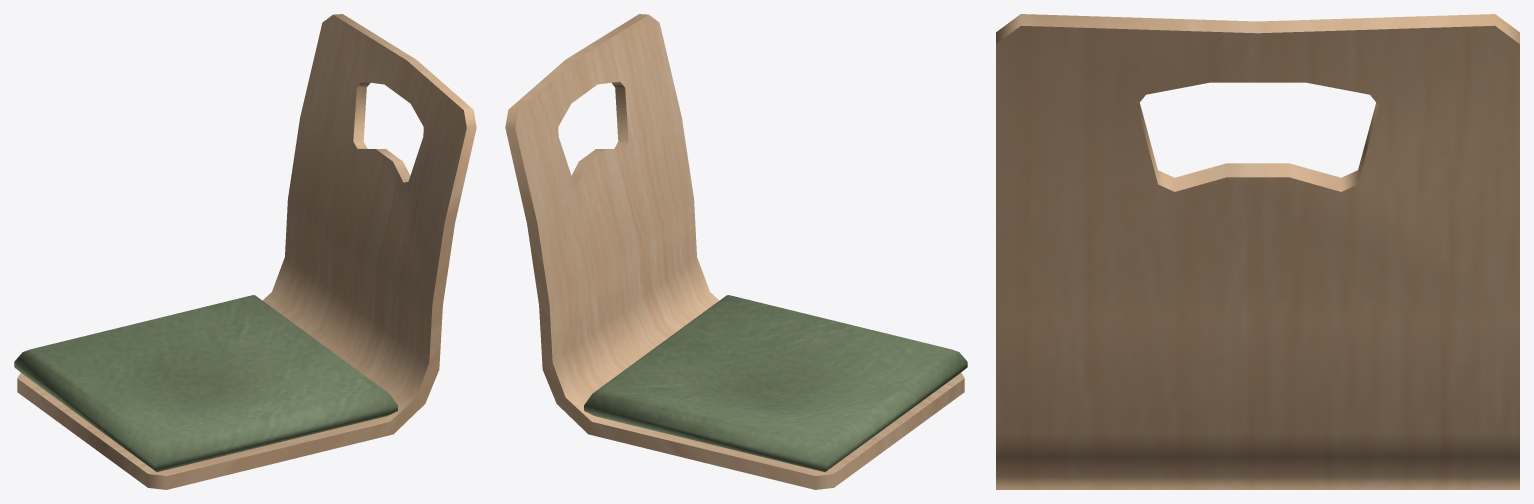
File: zaisu.fbx
3 views of the same model, side by side, from view 1: azimuth 30°, elevation 25°; view 2: azimuth 150°, elevation 25°; view 3: azimuth 270°, elevation 25° (orthographic). The views are drawn at different scales.
Visible parts, largest first — view 1: 立方体; view 2: 立方体; view 3: 立方体.
Boxes of the visible parts, x1,y1,x2,y2 form: 立方体: (14, 14, 476, 489); 立方体: (505, 14, 967, 489); 立方体: (996, 14, 1519, 489).
Bounding box in the file's own units: 2.65 × 2.28 × 1.99.
Materials: 1 (1 with a texture image).
